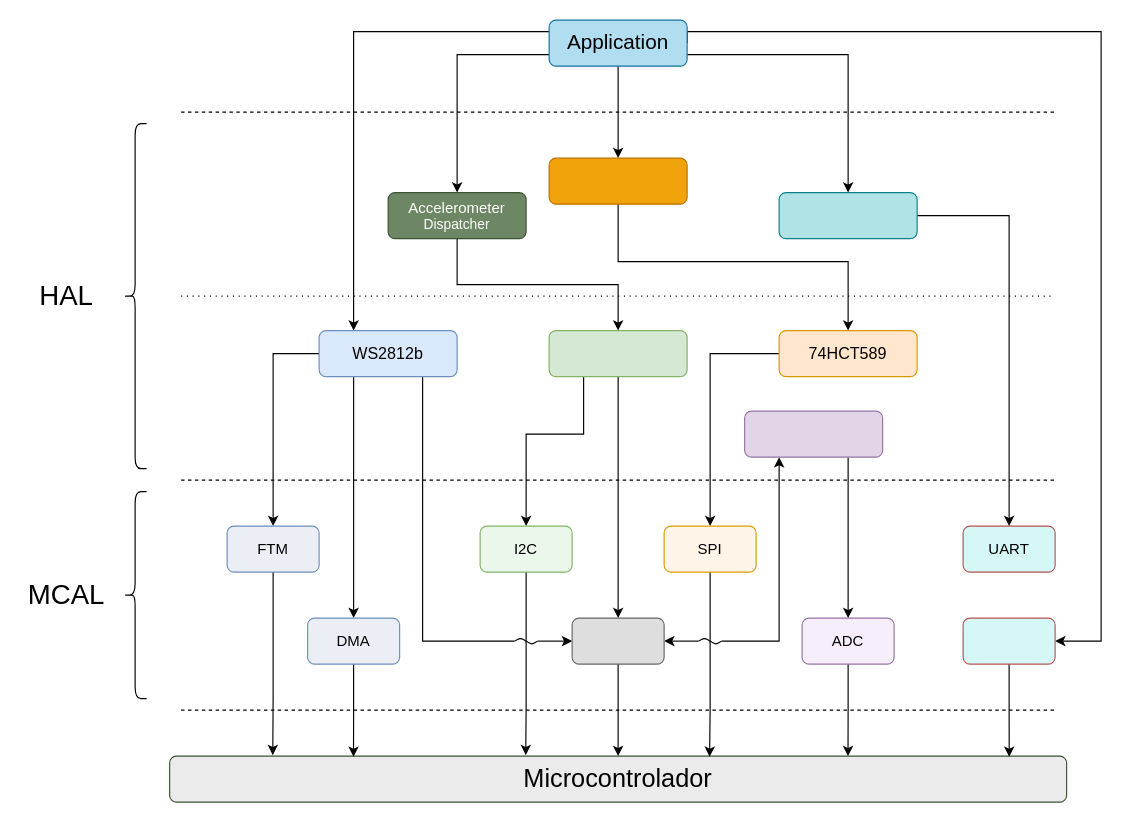
This 1130x822 diagram has some shape labels left out. Here are the shapes that lost their labels. From the top down, the centre of each, then its label:
At pixel 617 180: "Button Dispatcher".
At pixel 847 215: "External Comm Dispatcher".
At pixel 617 353: "FXOS8700CQ".
At pixel 813 433: "Potenciómetro".
At pixel 617 640: "Timer".
At pixel 1008 640: "RNG".
